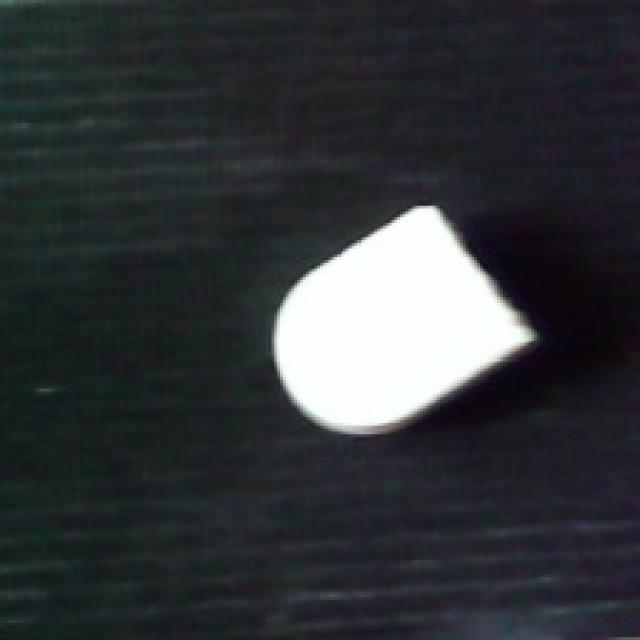defected: (263, 194, 548, 443)
